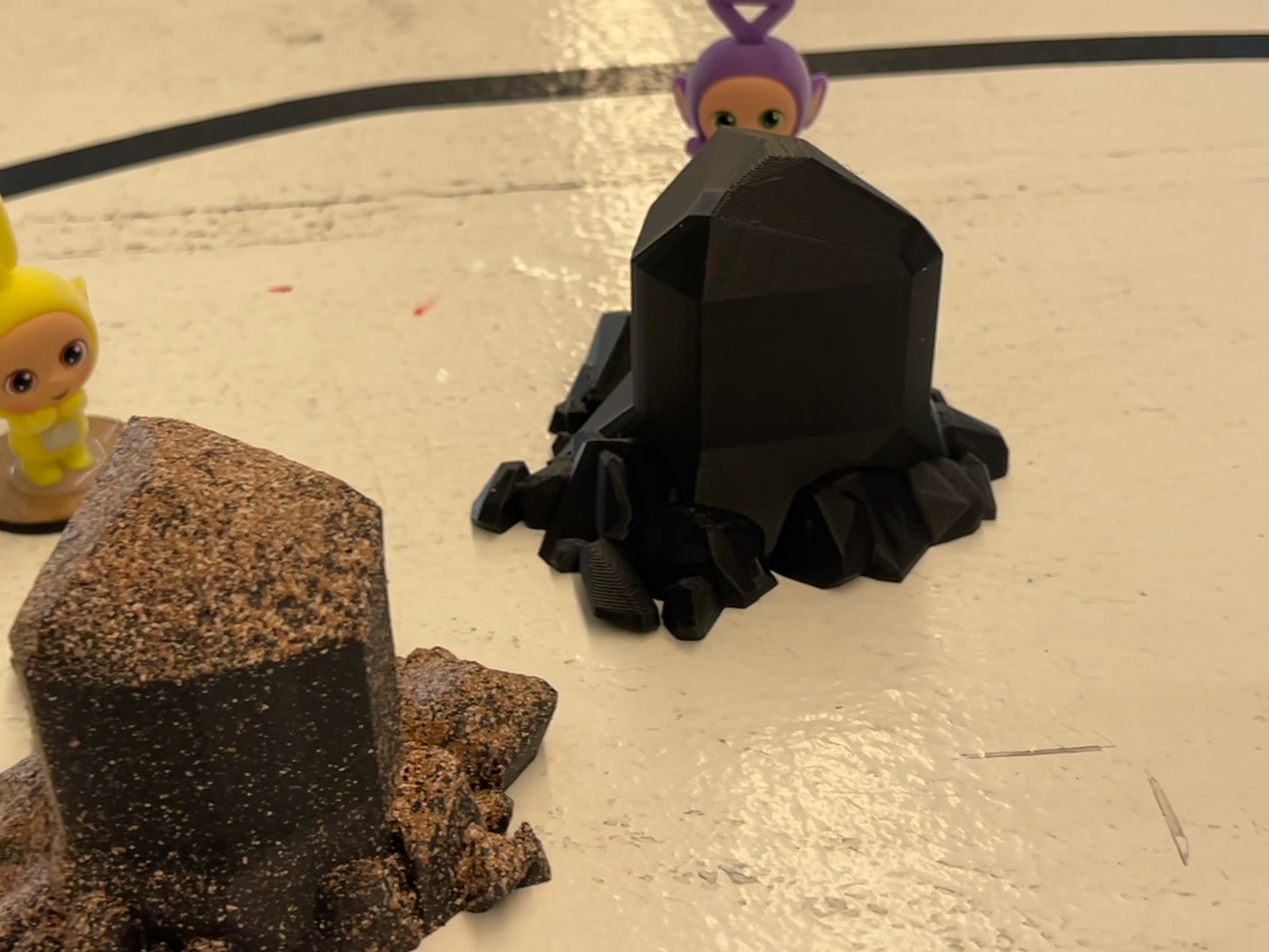teletubby: (0, 201, 98, 488), (672, 0, 827, 155)
